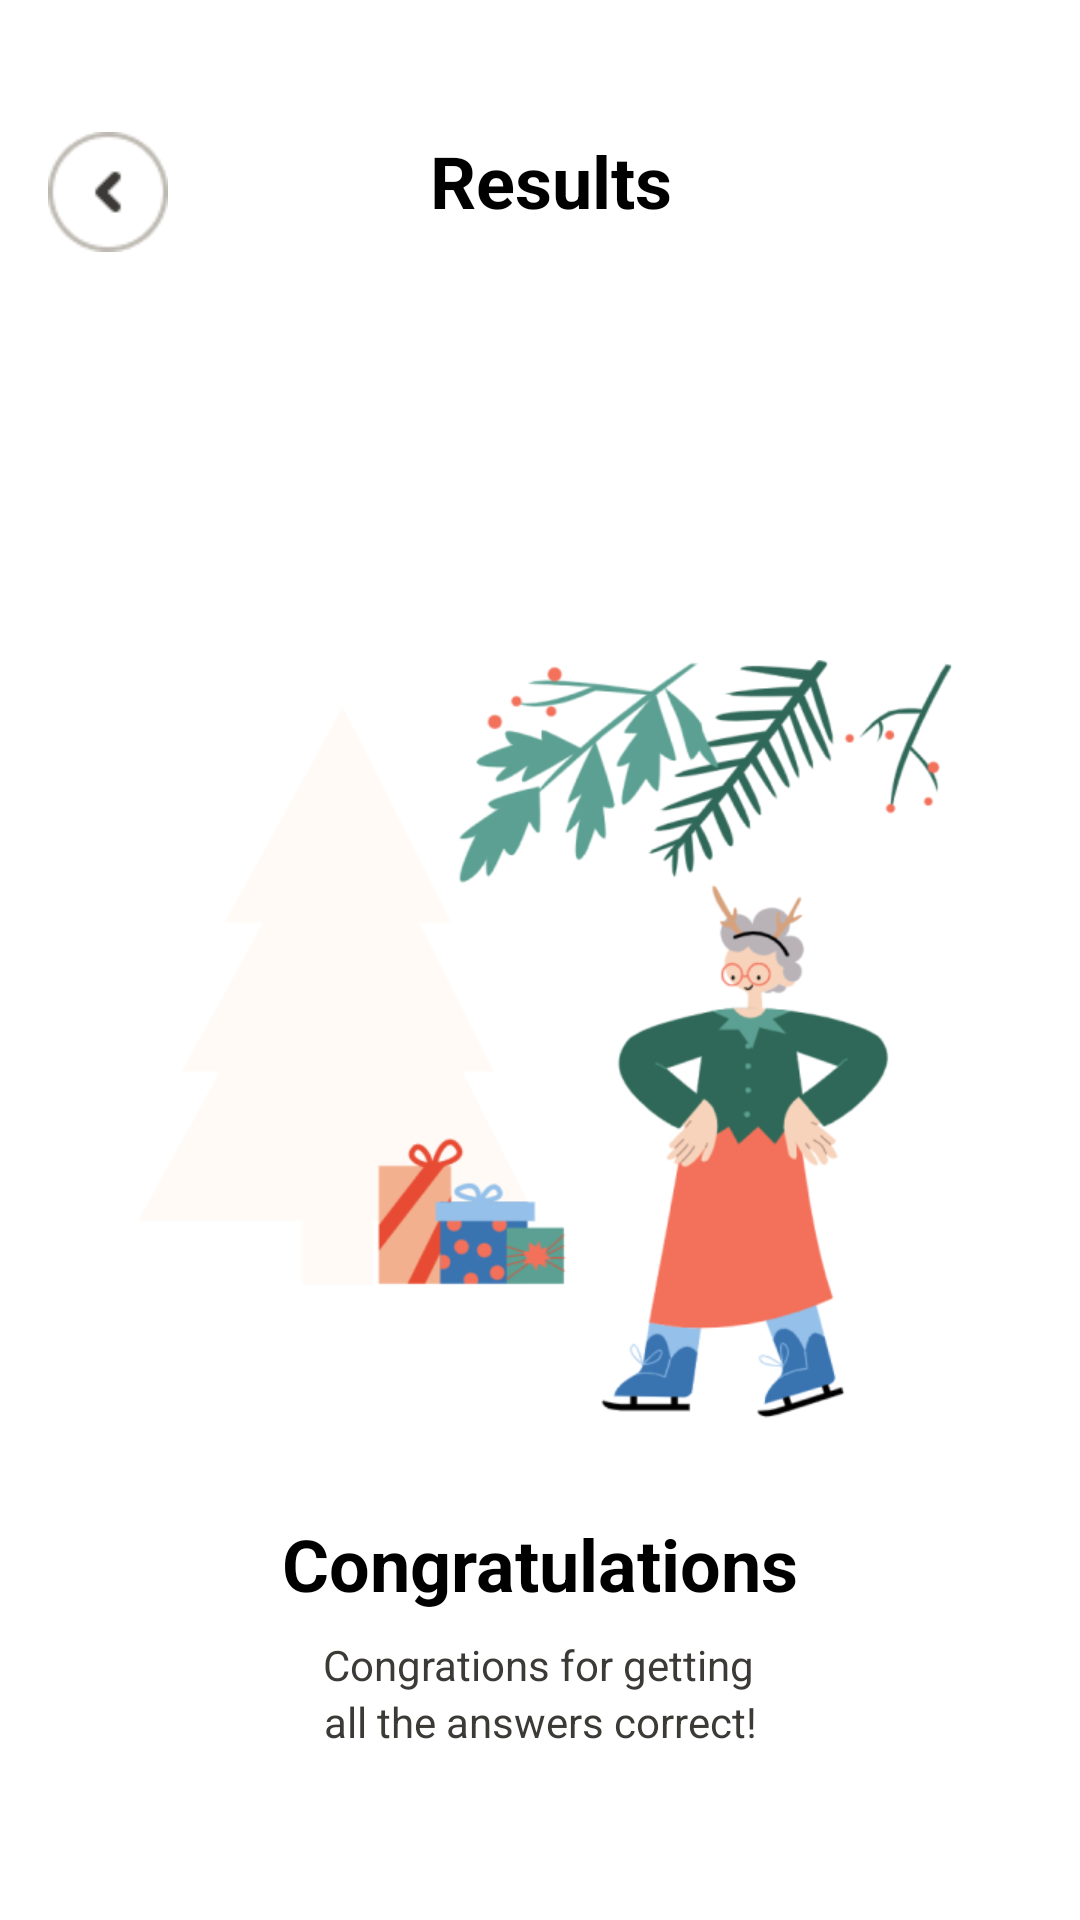

Where icons sit on this 1080 × 1920 app screen, as (x1, y1, x2, y2):
back: (48, 132, 168, 252)
